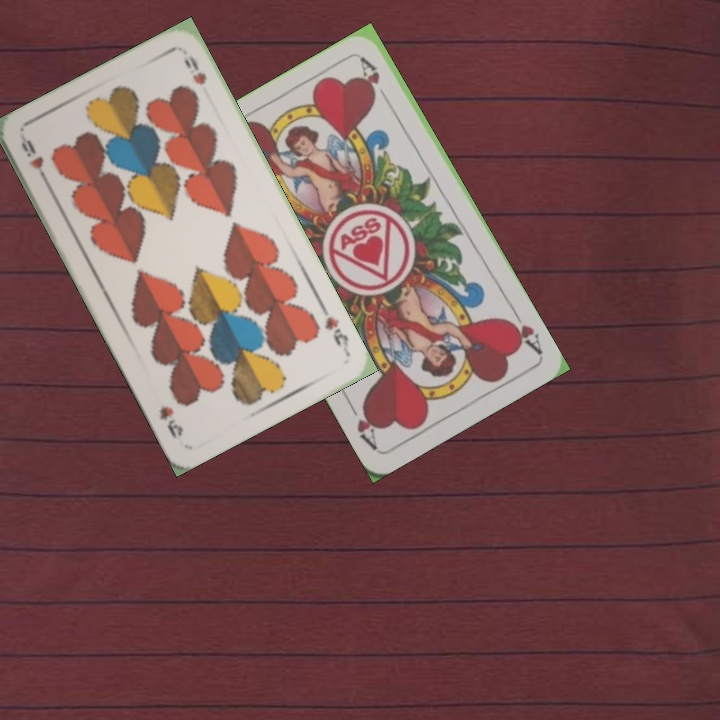H9: (16, 133, 52, 188), (317, 302, 352, 357)
HA: (501, 303, 545, 357)
